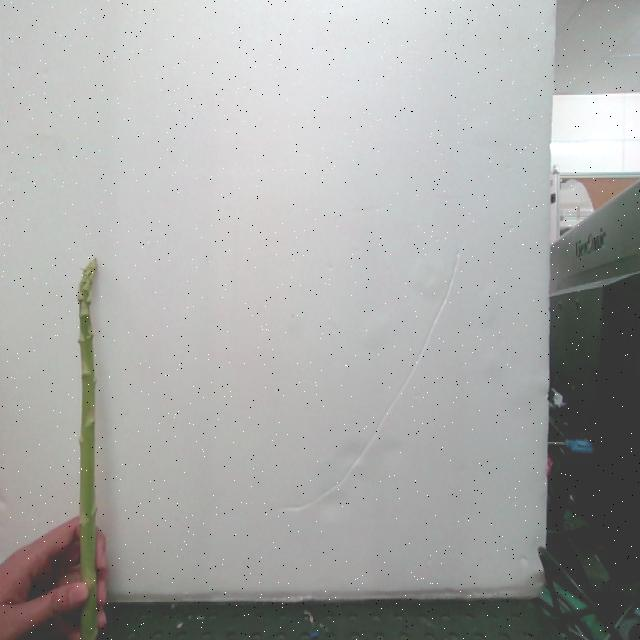aspargus: (78, 263, 105, 640)
